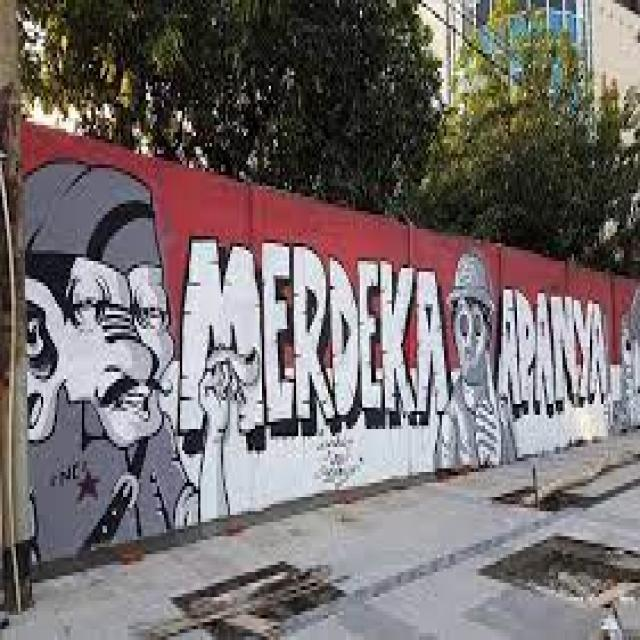-: (18, 118, 640, 564)
